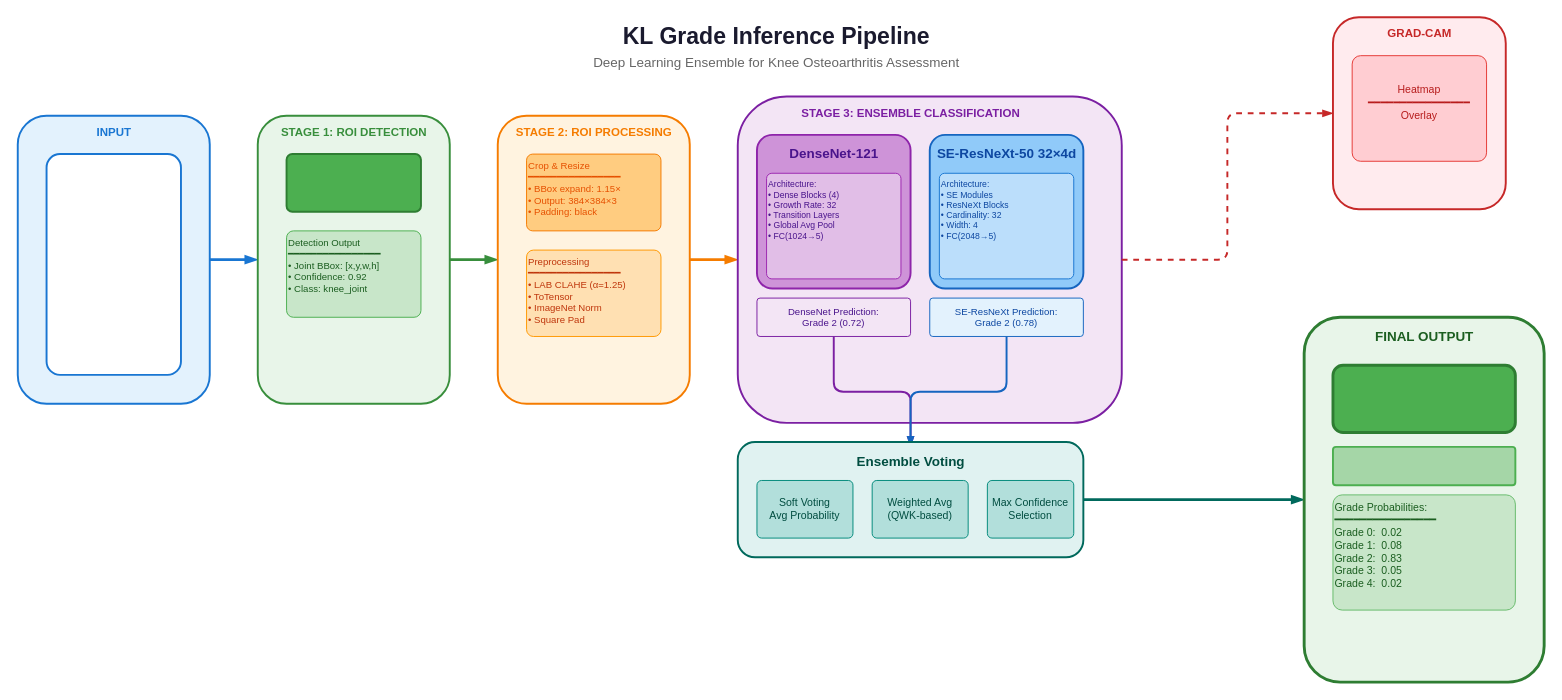
Image size: 1562x700. Some labels were removed from this diagram. Each missing label, with the centre of its shape:
"Confidence: 0.83" belongs at point 1424,465.
"KL GRADE 2" belongs at point 1423,398.
"Knee X-Ray" belongs at point 113,264.
"YOLOv8n Joint Detector" belongs at point 353,182.
